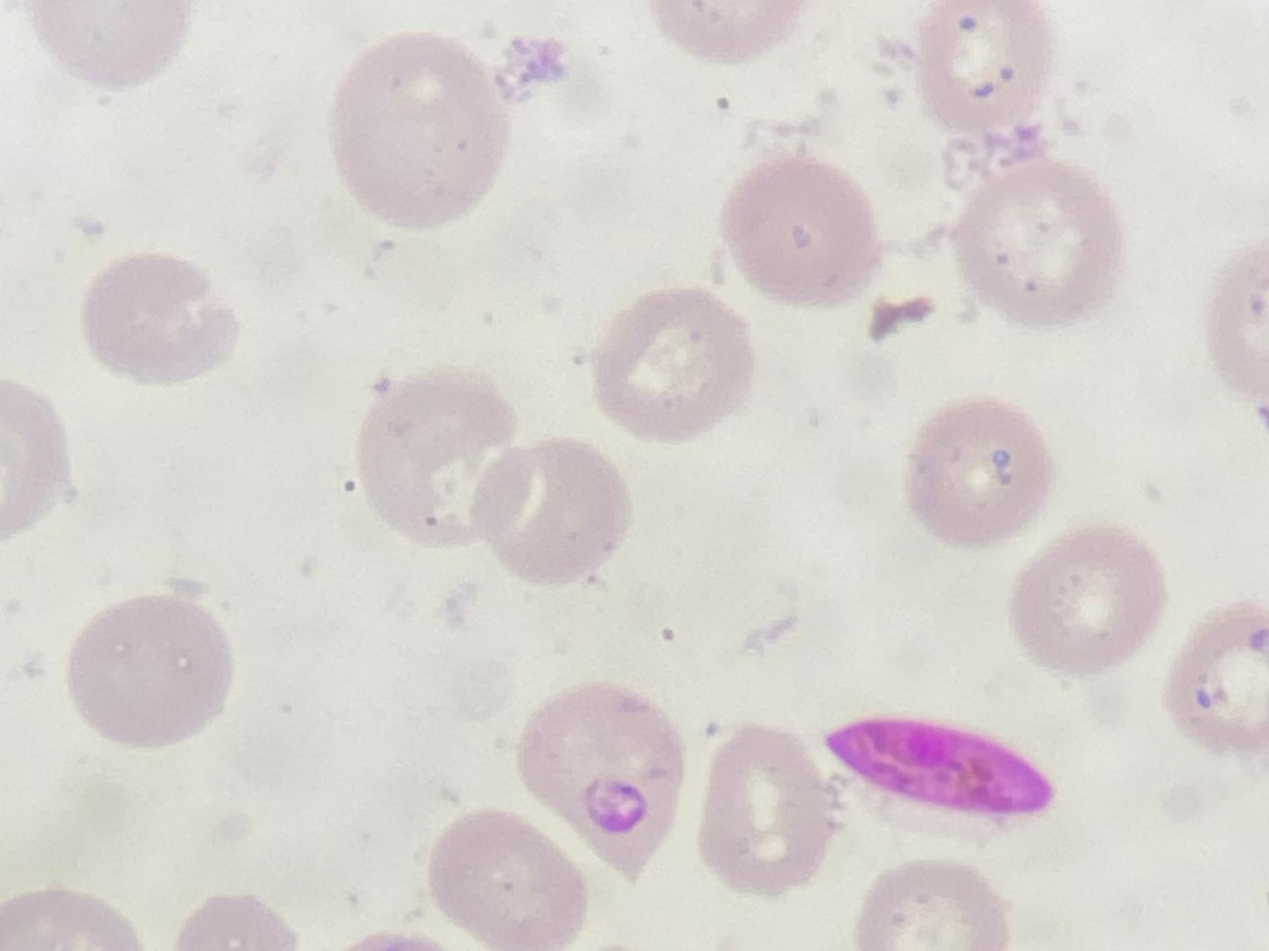Infected: (824, 717, 1050, 818)
Uninfected: (331, 34, 510, 227), (516, 682, 684, 876), (358, 369, 521, 542), (948, 163, 1120, 324), (65, 595, 233, 747), (591, 286, 755, 439), (721, 155, 882, 304), (476, 439, 633, 589), (1012, 525, 1167, 673), (701, 727, 835, 894), (905, 397, 1055, 544), (427, 812, 586, 950), (81, 252, 235, 383), (916, 2, 1055, 132)
